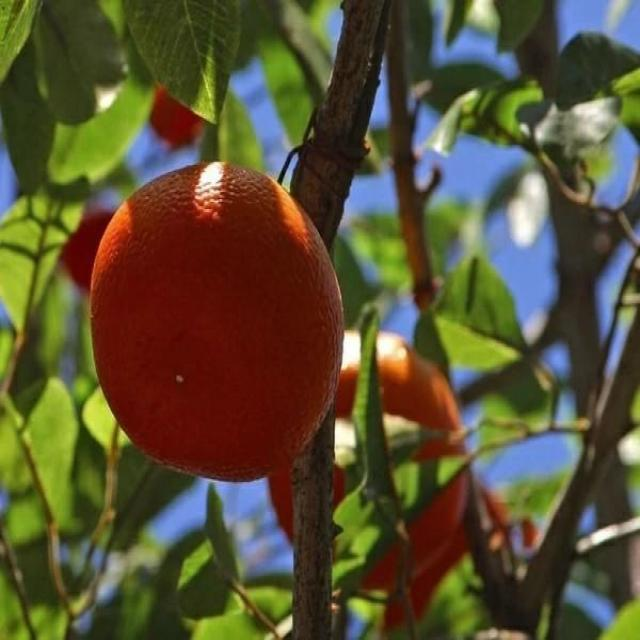Jeruk Sudah Matang: (92, 162, 346, 481), (266, 326, 467, 592), (64, 208, 129, 288), (147, 74, 210, 145)
